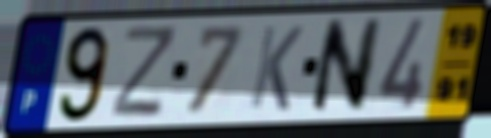4: (375, 13, 429, 115)
7: (184, 22, 247, 118)
9: (54, 24, 114, 125)
K: (246, 23, 307, 114)
N: (306, 15, 386, 117)
Z: (107, 23, 180, 121)
